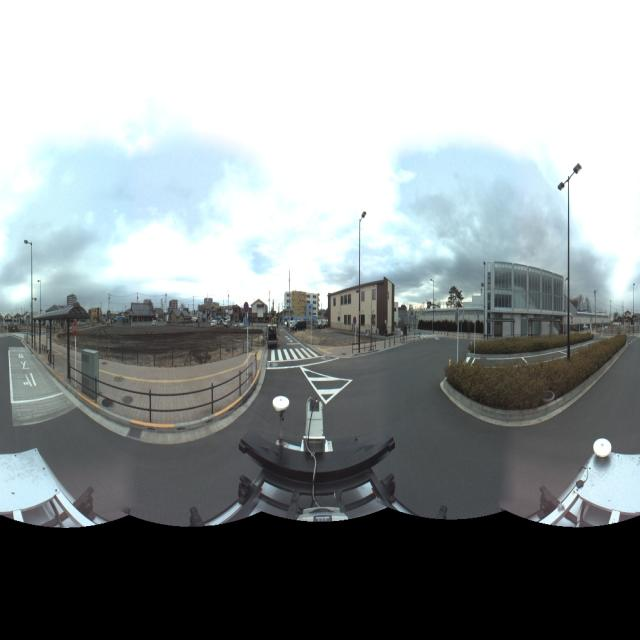b_1: (481, 251, 569, 347), (330, 270, 400, 341), (276, 284, 326, 337), (126, 294, 164, 336), (242, 291, 272, 336), (90, 294, 102, 325)
